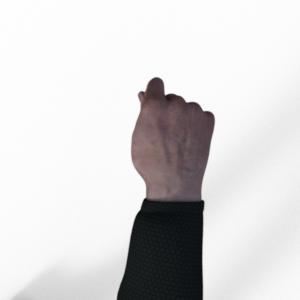rock: (117, 78, 214, 300)
